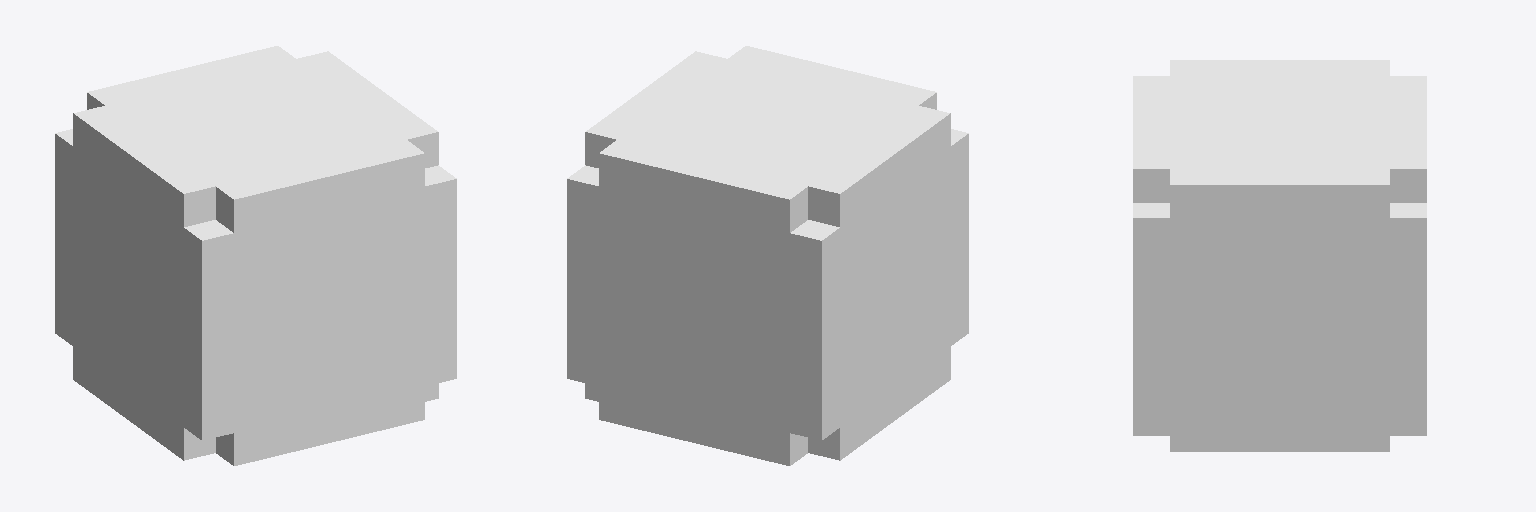
The model's file is Head3.obj.
3 renders of one model, left to right at view 1: azimuth 30°, elevation 25°; view 2: azimuth 150°, elevation 25°; view 3: azimuth 270°, elevation 25°, orthographic.
Parts seen in each view (by area): view 1: object 1; view 2: object 1; view 3: object 1.
Boxes of the visible parts, x1=… form: object 1: x1=55, y1=46, x2=456, y2=465; object 1: x1=567, y1=46, x2=968, y2=465; object 1: x1=1133, y1=60, x2=1426, y2=451.
Bounding box in the file's own units: 0.8 × 0.8 × 0.8.